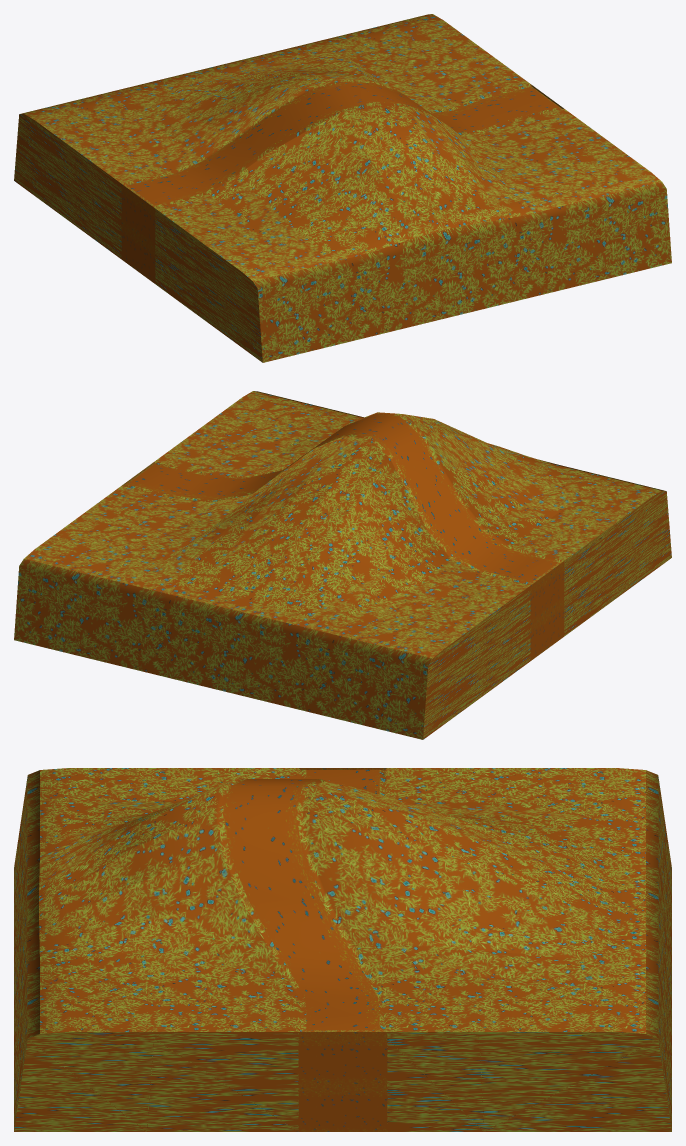
Rendered from wide t3st boi5 .fbx.
3 renders of one model, top to bottom at view 1: azimuth 30°, elevation 25°; view 2: azimuth 150°, elevation 25°; view 3: azimuth 270°, elevation 25°, orthographic. The views are drawn at different scales.
Visible parts, largest first — view 1: Mesh_Path_Straight5; view 2: Mesh_Path_Straight5; view 3: Mesh_Path_Straight5.
Boxes of the visible parts, x1,y1,x2,y2 form: Mesh_Path_Straight5: (14,14,671,362); Mesh_Path_Straight5: (14,391,671,739); Mesh_Path_Straight5: (14,768,671,1131).
Size of the model in its own units: 5623 by 2033 by 5926.
